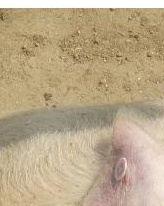text: (102, 148, 138, 193)
